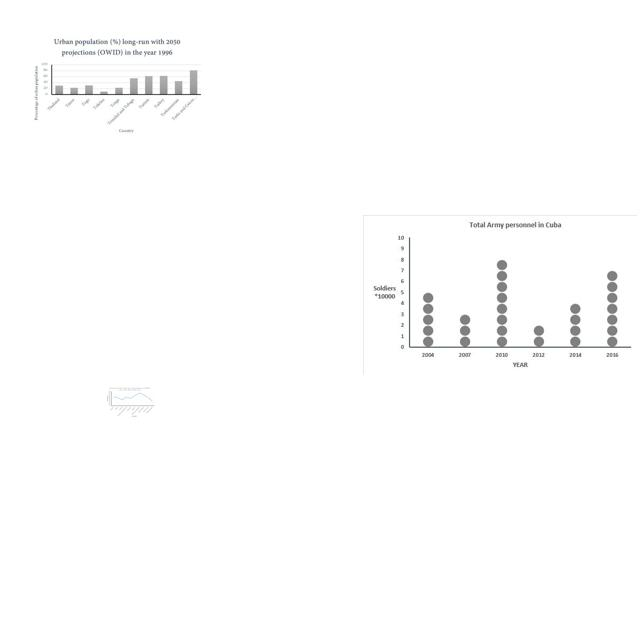Graph: (363, 215, 637, 375), (31, 36, 204, 135), (105, 387, 155, 417)
